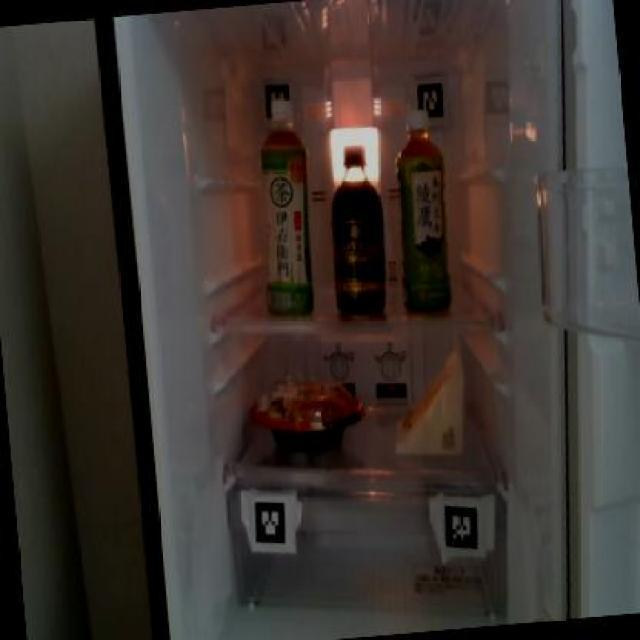bento: (244, 376, 364, 462)
coffee: (321, 142, 394, 318)
sandwich: (387, 354, 476, 464)
tea_a: (387, 112, 458, 320)
tea_i: (248, 112, 322, 325)
